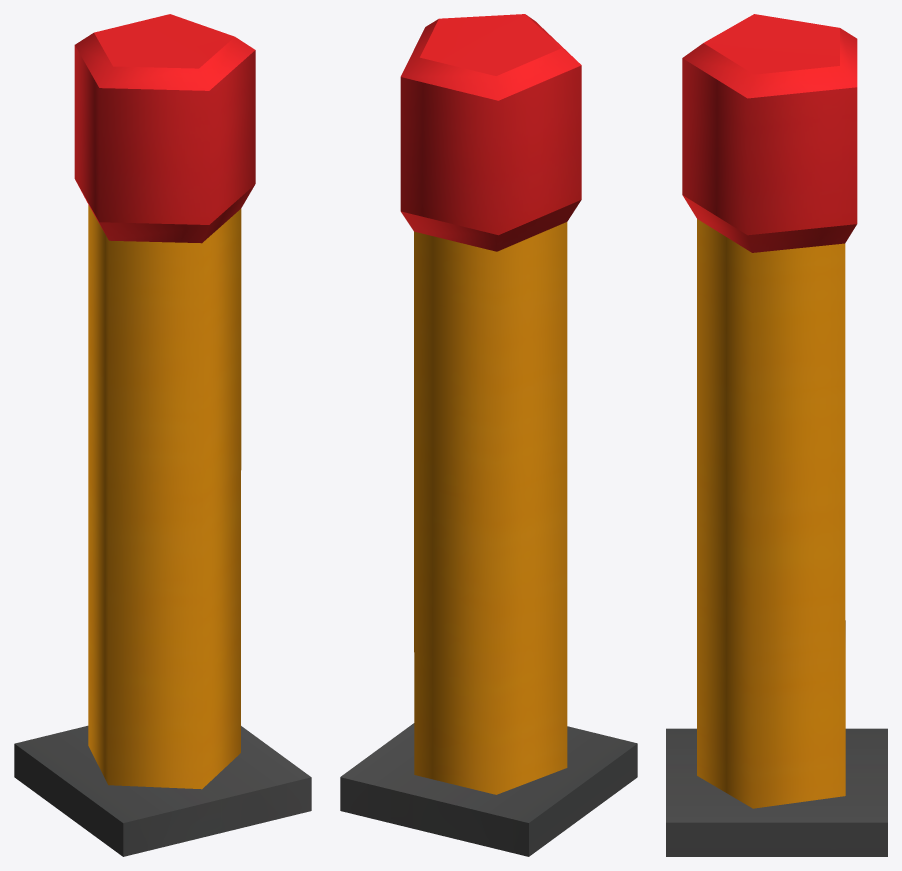
Rendered from Bollards_4_C.fbx.
The picture shows the model from 3 angles, left to right: view 1: azimuth 30°, elevation 25°; view 2: azimuth 150°, elevation 25°; view 3: azimuth 270°, elevation 25°; orthographic projection.
Parts seen in each view (by area): view 1: Bollards_4_C; view 2: Bollards_4_C; view 3: Bollards_4_C.
Boxes of the visible parts, x1=… form: Bollards_4_C: x1=14, y1=14, x2=311, y2=856; Bollards_4_C: x1=340, y1=14, x2=637, y2=856; Bollards_4_C: x1=666, y1=14, x2=887, y2=856.
Size of the model in its own units: 15.3 by 58.39 by 15.3.
